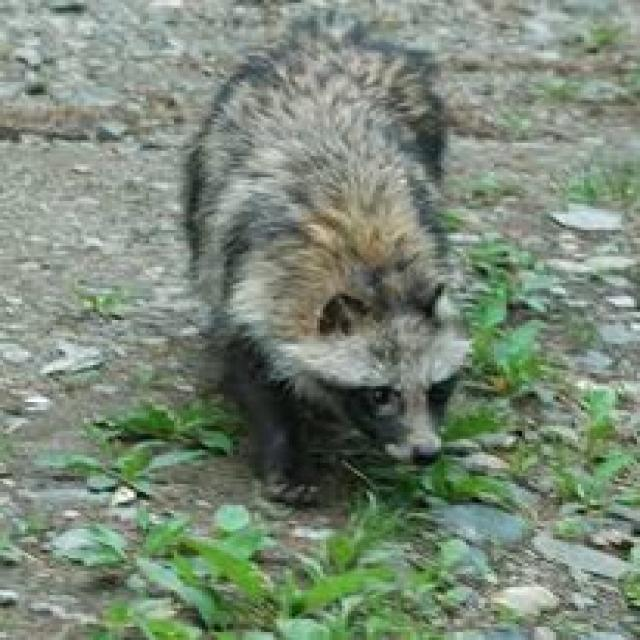racoon: (185, 0, 476, 490)
